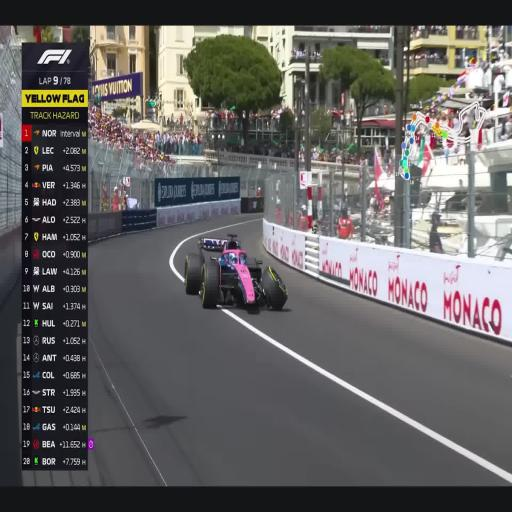f1_car: (185, 234, 287, 310)
